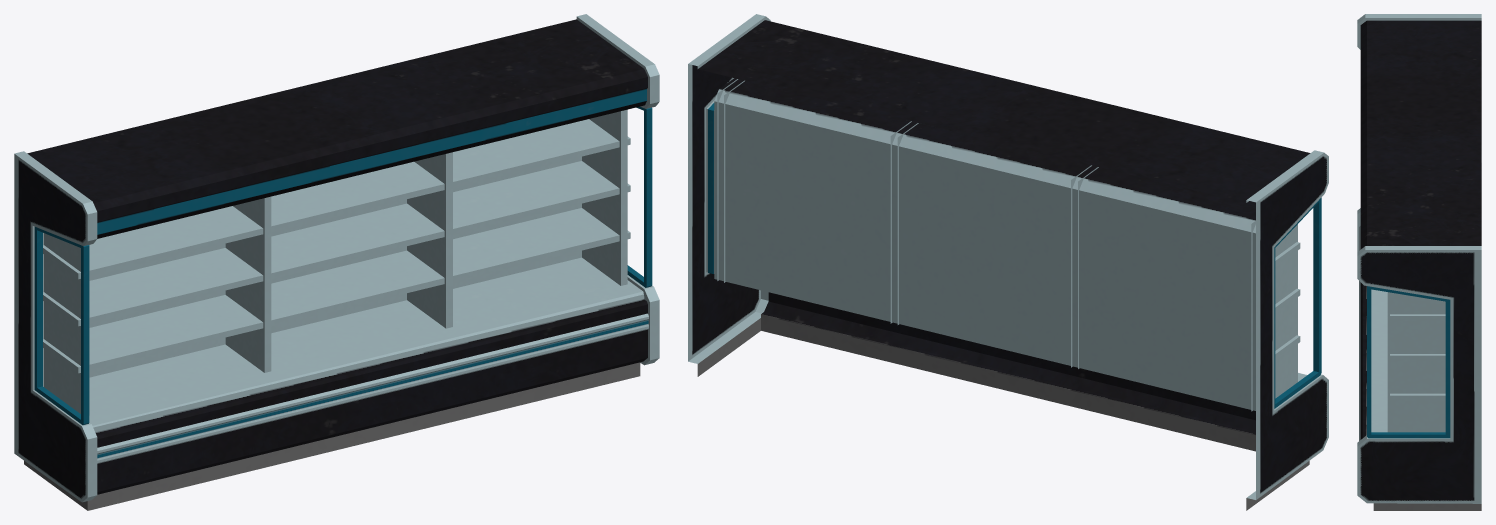
Rendered from RefrigeratorBig.fbx.
3 views of the same model, side by side, from view 1: azimuth 30°, elevation 25°; view 2: azimuth 150°, elevation 25°; view 3: azimuth 270°, elevation 25° (orthographic). The views are drawn at different scales.
Visible parts, largest first — view 1: RefrigeratorBig; view 2: RefrigeratorBig; view 3: RefrigeratorBig.
Part boxes in pixels (x1,y1,x2,y2): RefrigeratorBig: (14,14,659,510); RefrigeratorBig: (688,14,1328,510); RefrigeratorBig: (1357,14,1481,510).
Size of the model in its own units: 466 by 244 by 103.
